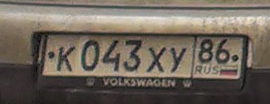character: (102, 38, 124, 73), (125, 38, 145, 73), (80, 40, 100, 73), (147, 45, 166, 75), (56, 45, 76, 73), (167, 45, 187, 73), (215, 37, 232, 65), (198, 37, 214, 65)
